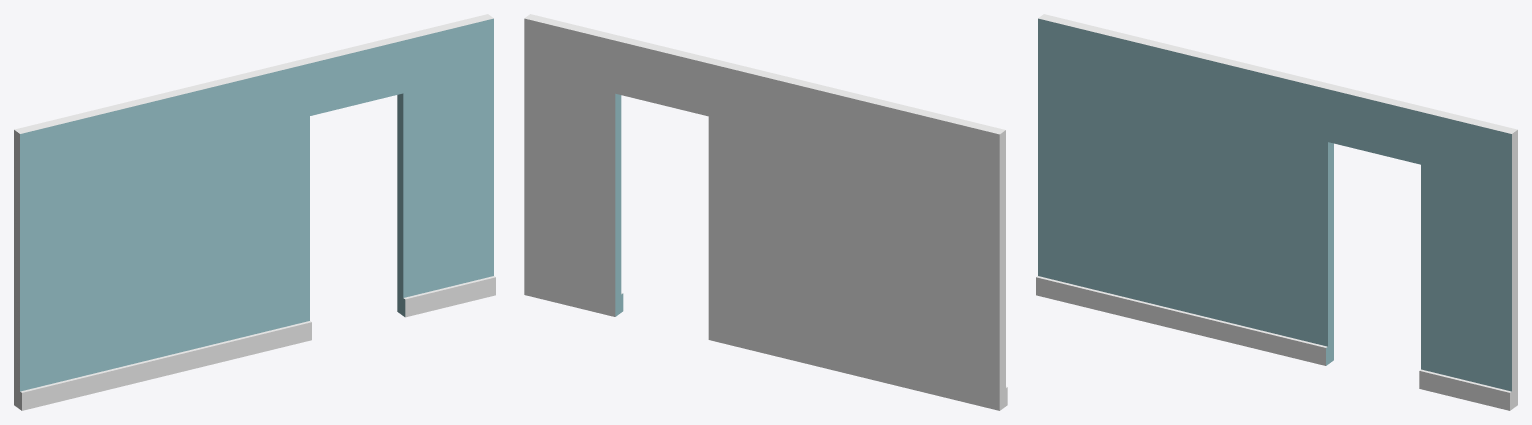
Rendered from Wall 2.fbx.
3 renders of one model, left to right at view 1: azimuth 30°, elevation 25°; view 2: azimuth 150°, elevation 25°; view 3: azimuth 330°, elevation 25°, orthographic.
Visible parts, largest first — view 1: Wall 2; view 2: Wall 2; view 3: Wall 2.
Part boxes in pixels (box(x1,y1,x2,y2)): Wall 2: box(14, 14, 495, 410); Wall 2: box(524, 14, 1007, 410); Wall 2: box(1036, 14, 1517, 410).
Size of the model in its own units: 4500 by 2500 by 130.
Materials: 1 (1 with a texture image).
